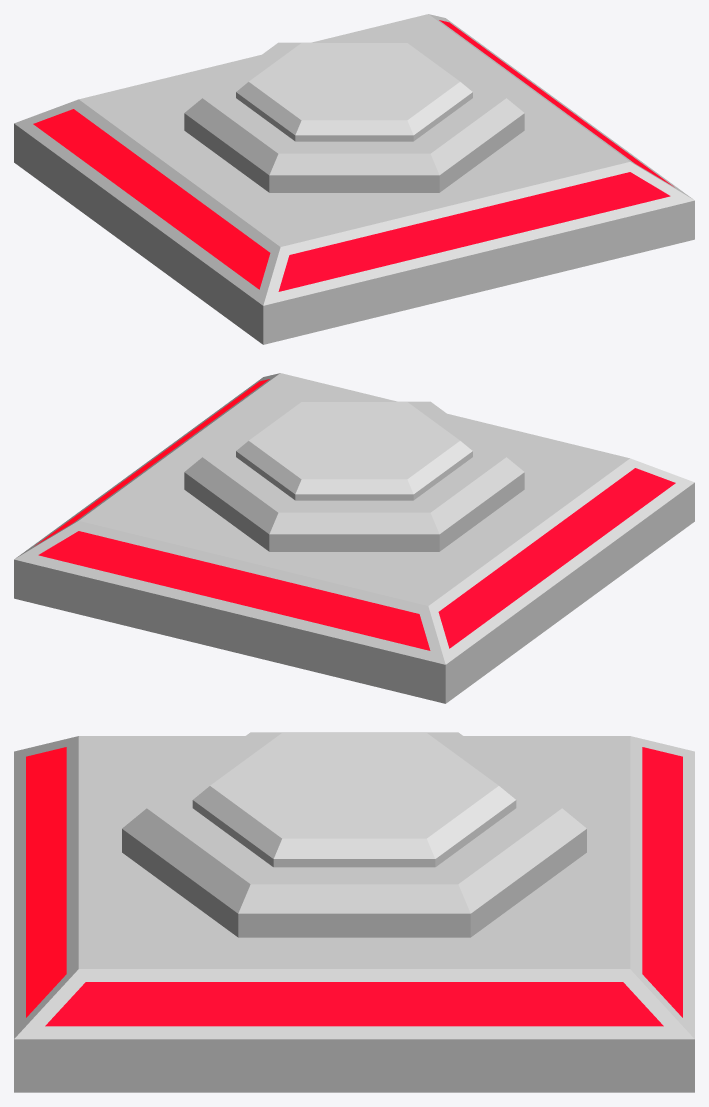
Rendered from trigger.fbx.
3 views of the same model, one above another, from view 1: azimuth 30°, elevation 25°; view 2: azimuth 150°, elevation 25°; view 3: azimuth 270°, elevation 25° (orthographic). The views are drawn at different scales.
Parts seen in each view (by area): view 1: Cylinder; view 2: Cylinder; view 3: Cylinder.
Part boxes in pixels (box(x1,y1,x2,y2)): Cylinder: box(14, 14, 694, 344); Cylinder: box(14, 373, 694, 703); Cylinder: box(14, 732, 694, 1092).
Bounding box in the file's own units: 186 × 49.12 × 186.
